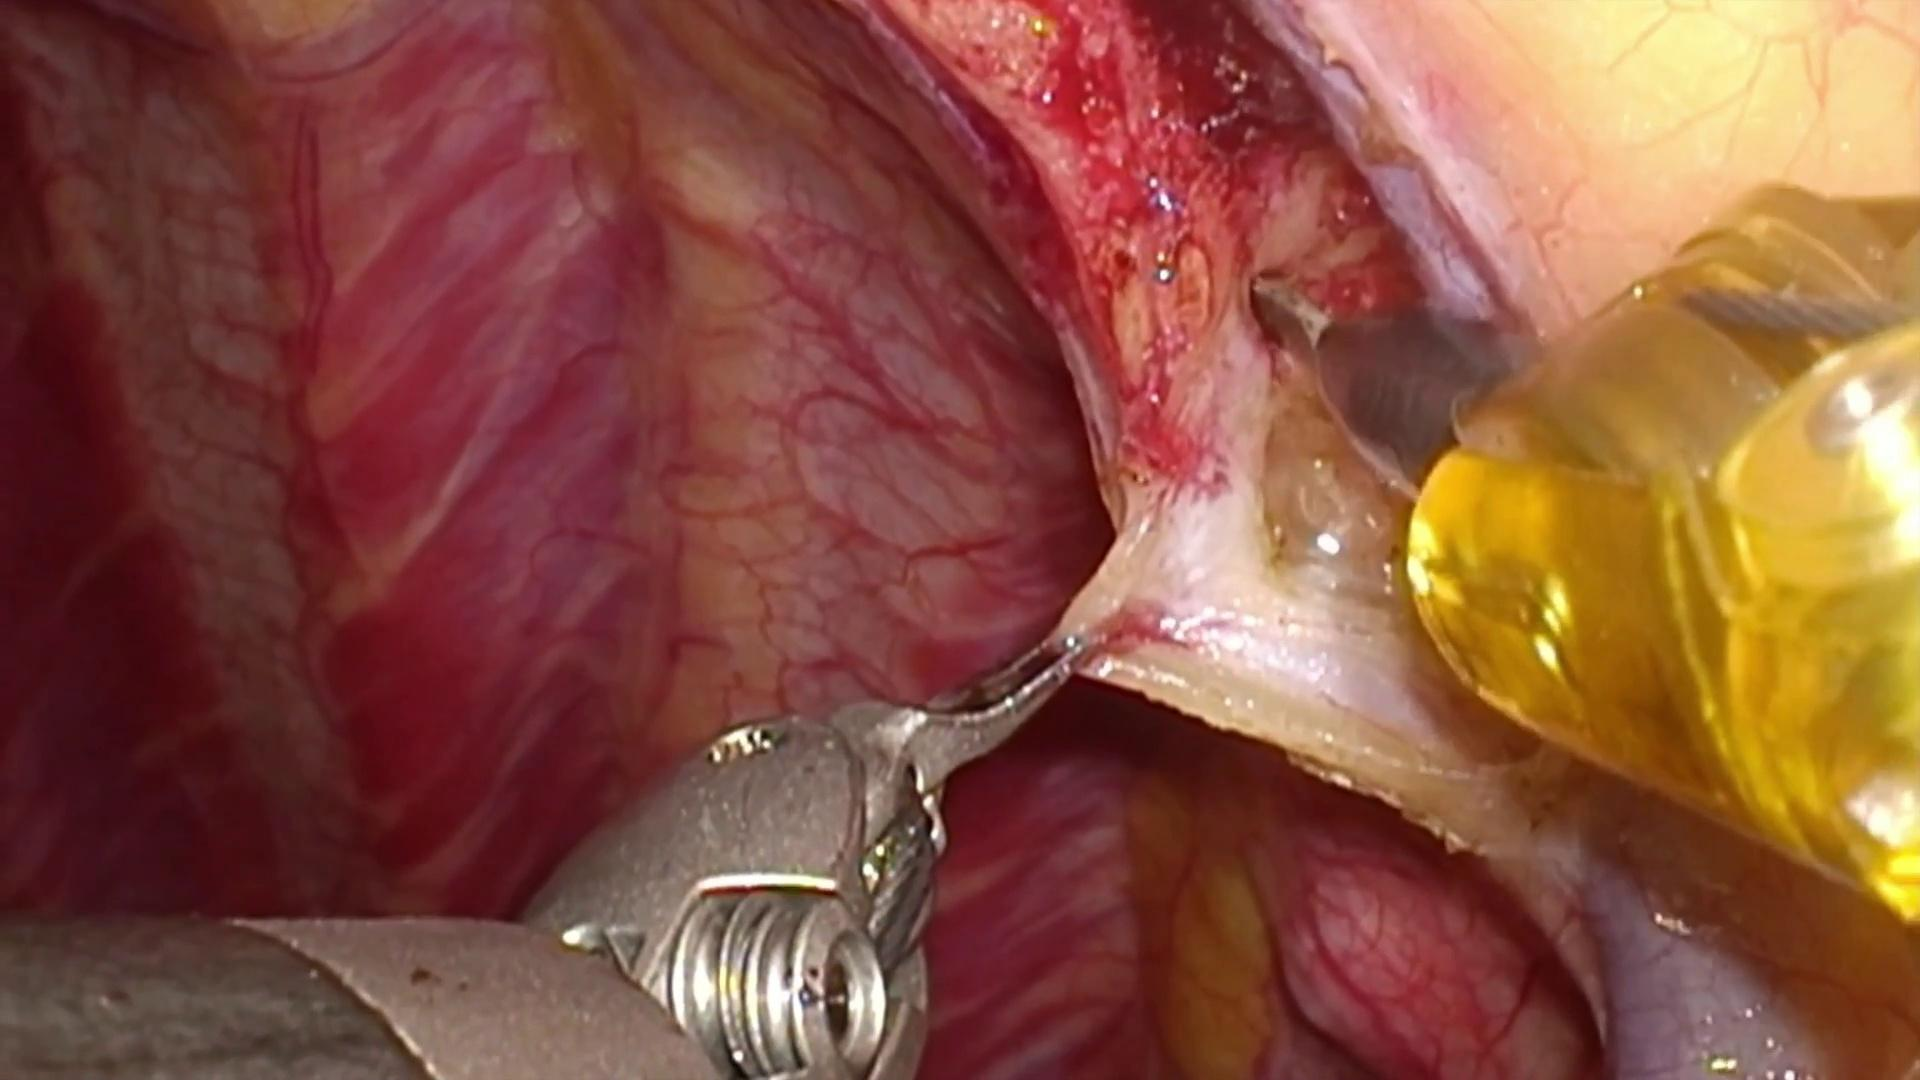Cautery_Spatula: (1234, 264, 1530, 505)
Debakey: (840, 612, 1088, 819)
